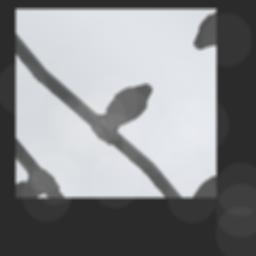Crow: (82, 73, 164, 147)
